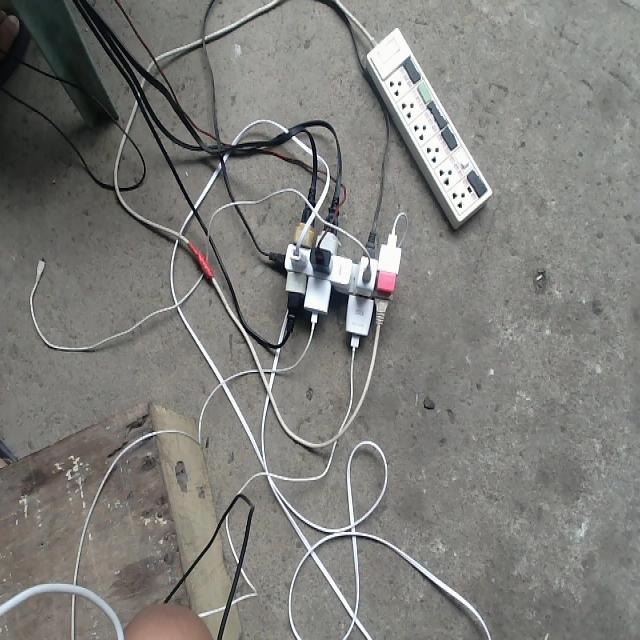-: (272, 207, 401, 345)
